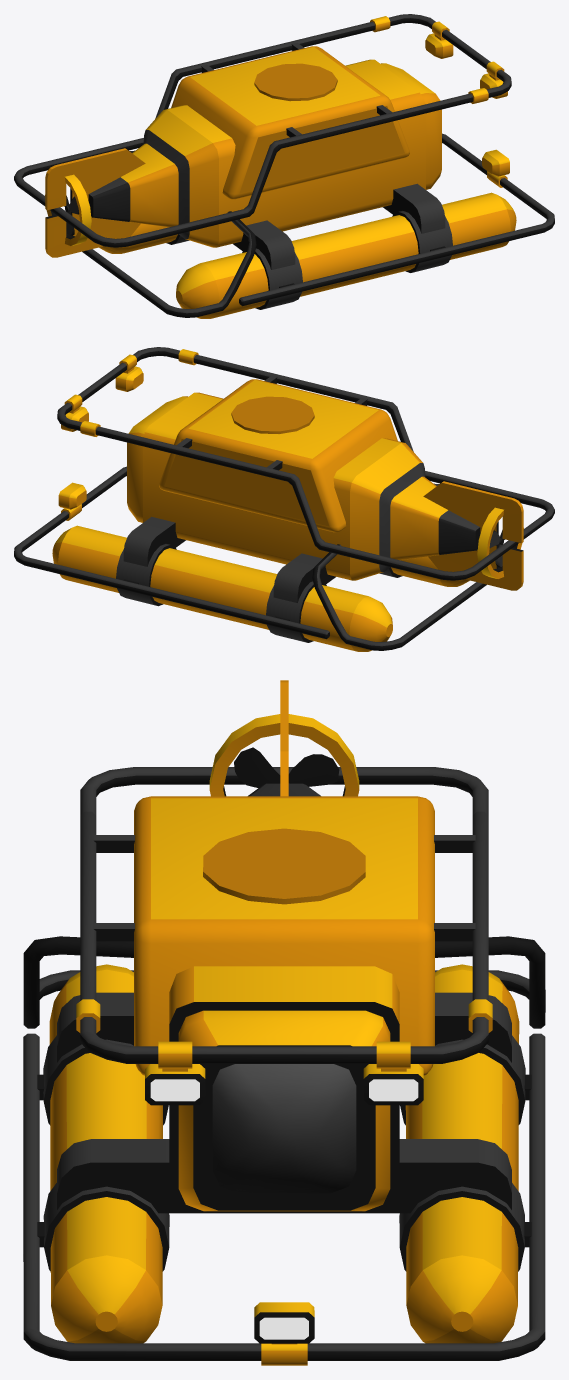
The model's file is Construction_003.glb.
3 renders of one model, top to bottom at view 1: azimuth 30°, elevation 25°; view 2: azimuth 150°, elevation 25°; view 3: azimuth 270°, elevation 25°, orthographic. The views are drawn at different scales.
Parts seen in each view (by area): view 1: Construction_003; view 2: Construction_003; view 3: Construction_003.
Boxes of the visible parts, left/top/right/bottom form: Construction_003: left=14, top=14, right=554, bottom=318; Construction_003: left=14, top=347, right=554, bottom=651; Construction_003: left=23, top=680, right=545, bottom=1365.
Size of the model in its own units: 5.42 by 1.97 by 2.68.
Materials: 2 (2 with a texture image).
